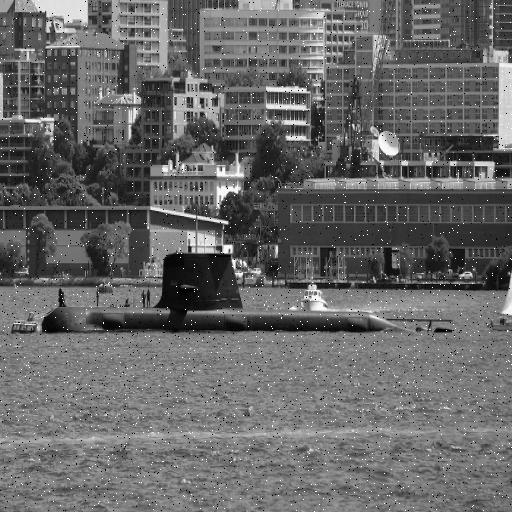submarine: (47, 256, 404, 332)
